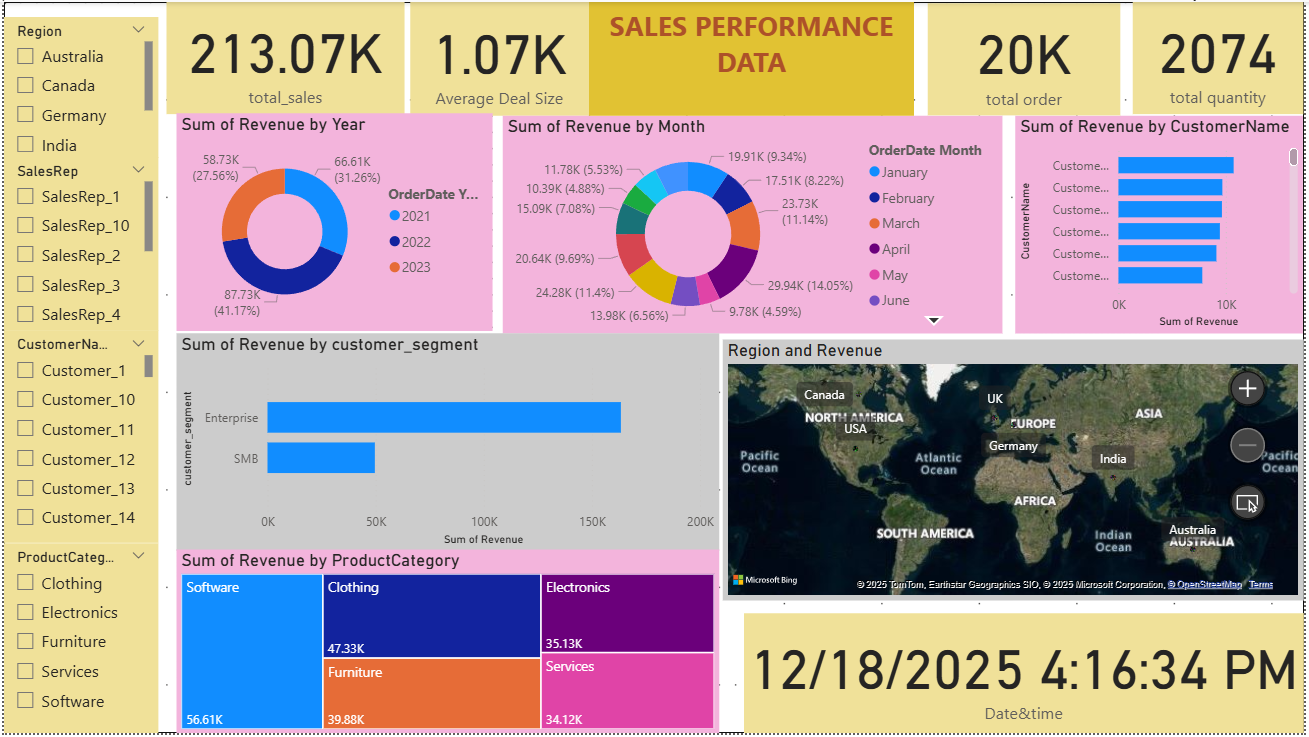

The page's visual inventory and layout, read from the dashboard file:
{"tool":"powerbi","page":{"name":"Page 1","canvas":[1280,720],"ordinal":0},"visuals":[{"type":"card","fields":{"Values":["Sales_Data.total_sales"]},"box":[160.3,0,234.6,110.3],"z":0},{"type":"card","fields":{"Values":["Sales_Data.Average Deal Size"]},"box":[400,0,176,112],"z":1000},{"type":"donutChart","fields":{"Category":["Sales_Data.OrderDate.Variation.Date Hierarchy.Year","Sales_Data.OrderDate.Variation.Date Hierarchy.Quarter","Sales_Data.OrderDate.Variation.Date Hierarchy.Month","Sales_Data.OrderDate.Variation.Date Hierarchy.Day"],"Y":["Sum(Sales_Data.Revenue)"]},"box":[169.2,109,311.5,214.1],"z":2000},{"type":"donutChart","fields":{"Category":["Sales_Data.OrderDate.Variation.Date Hierarchy.Month"],"Y":["Sum(Sales_Data.Revenue)"]},"box":[491,111.5,492.3,214.1],"z":3000},{"type":"barChart","fields":{"Y":["Sum(Sales_Data.Revenue)"],"Category":["Sales_Data.customer_segment"]},"box":[169.2,325.6,534.6,214.1],"z":4000},{"type":"clusteredBarChart","fields":{"Category":["Sales_Data.CustomerName"],"Y":["Sum(Sales_Data.Revenue)"]},"box":[996.2,111.5,283.3,214.1],"z":5000},{"type":"map","fields":{"Category":["Sales_Data.Region"],"Series":["Sales_Data.Revenue"]},"box":[707.7,332.1,571.8,256.4],"z":6000},{"type":"card","fields":{"Values":["Sales_Data.total order"]},"box":[909,1.3,189.7,110.3],"z":7000},{"type":"card","fields":{"Values":["Sales_Data.total quantity"]},"box":[1111.5,0,167.9,110.3],"z":8000},{"type":"treemap","fields":{"Group":["Sales_Data.ProductCategory"],"Values":["Sum(Sales_Data.Revenue)"]},"box":[169.2,538.5,534.6,182.1],"z":9000},{"type":"slicer","fields":{"Values":["Sales_Data.Region"]},"box":[0,14.7,151.6,138.2],"z":10000},{"type":"slicer","fields":{"Values":["Sales_Data.SalesRep"]},"box":[0,152.9,151.6,171.2],"z":11000},{"type":"slicer","fields":{"Values":["Sales_Data.CustomerName"]},"box":[0,324.1,151.6,209.1],"z":12000},{"type":"slicer","fields":{"Values":["Sales_Data.ProductCategory"]},"box":[0,533.2,151.6,187.1],"z":13000},{"type":"card","fields":{"Values":["Sales_Data.Date&time"]},"box":[728.2,601.3,551.3,119.2],"z":14000},{"type":"textbox","box":[570.5,7.7,321.8,97.4],"z":15000}]}

Visuals, with their boxes in screenshot pixels (x1, y1, x2, y2), scaled from the page's 1280x720 canvas onto the 1309x737 screenshot:
card - Sales_Data.total_sales: bbox=(164, 0, 404, 113)
card - Sales_Data.Average Deal Size: bbox=(409, 0, 589, 115)
donutChart - Sales_Data.OrderDate.Variation.Date Hierarchy.Year x Sales_Data.OrderDate.Variation.Date Hierarchy.Quarter: bbox=(173, 112, 492, 331)
donutChart - Sales_Data.OrderDate.Variation.Date Hierarchy.Month x Sum(Sales_Data.Revenue): bbox=(502, 114, 1006, 333)
barChart - Sum(Sales_Data.Revenue) x Sales_Data.customer_segment: bbox=(173, 333, 720, 552)
clusteredBarChart - Sales_Data.CustomerName x Sum(Sales_Data.Revenue): bbox=(1019, 114, 1308, 333)
map - Sales_Data.Region x Sales_Data.Revenue: bbox=(724, 340, 1308, 602)
card - Sales_Data.total order: bbox=(930, 1, 1124, 114)
card - Sales_Data.total quantity: bbox=(1137, 0, 1308, 113)
treemap - Sales_Data.ProductCategory x Sum(Sales_Data.Revenue): bbox=(173, 551, 720, 736)
slicer - Sales_Data.Region: bbox=(0, 15, 155, 157)
slicer - Sales_Data.SalesRep: bbox=(0, 157, 155, 332)
slicer - Sales_Data.CustomerName: bbox=(0, 332, 155, 546)
slicer - Sales_Data.ProductCategory: bbox=(0, 546, 155, 736)
card - Sales_Data.Date&time: bbox=(745, 615, 1308, 736)
textbox: bbox=(583, 8, 913, 108)
